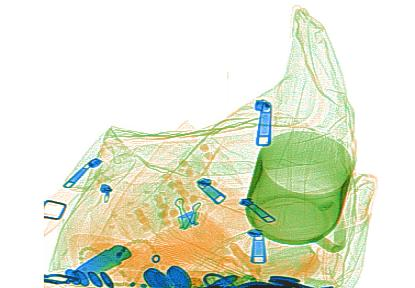knife: (72, 243, 131, 280)
